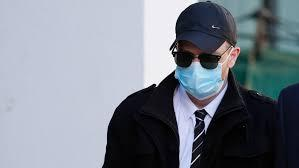cap: (166, 0, 244, 54)
mask: (171, 61, 226, 103)
sunglasses: (166, 48, 224, 72)
